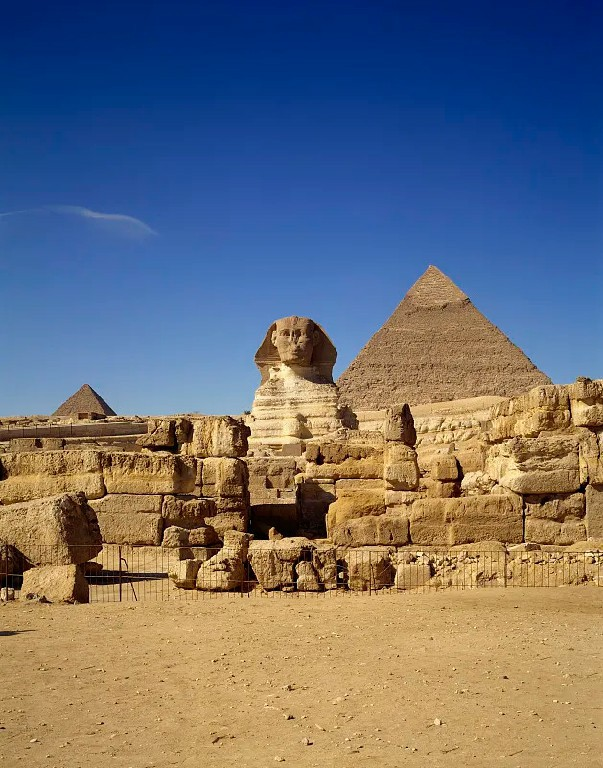Pyramid: (339, 265, 553, 410), (52, 385, 115, 417)
